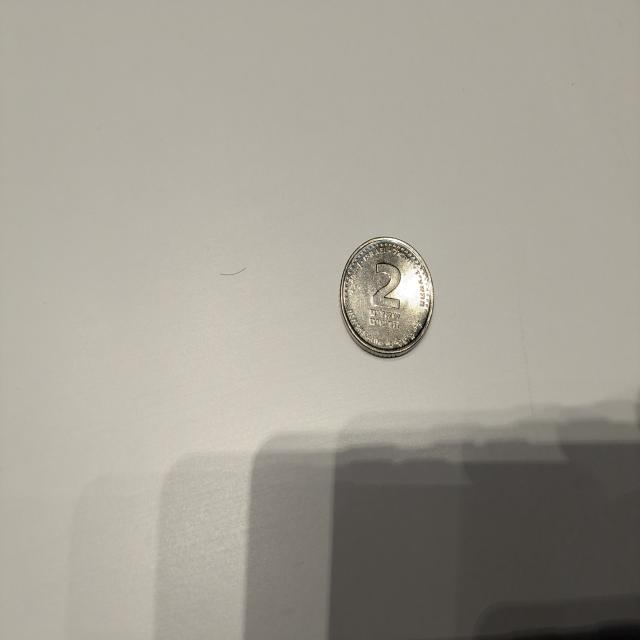2-shekel: (338, 237, 439, 371)
